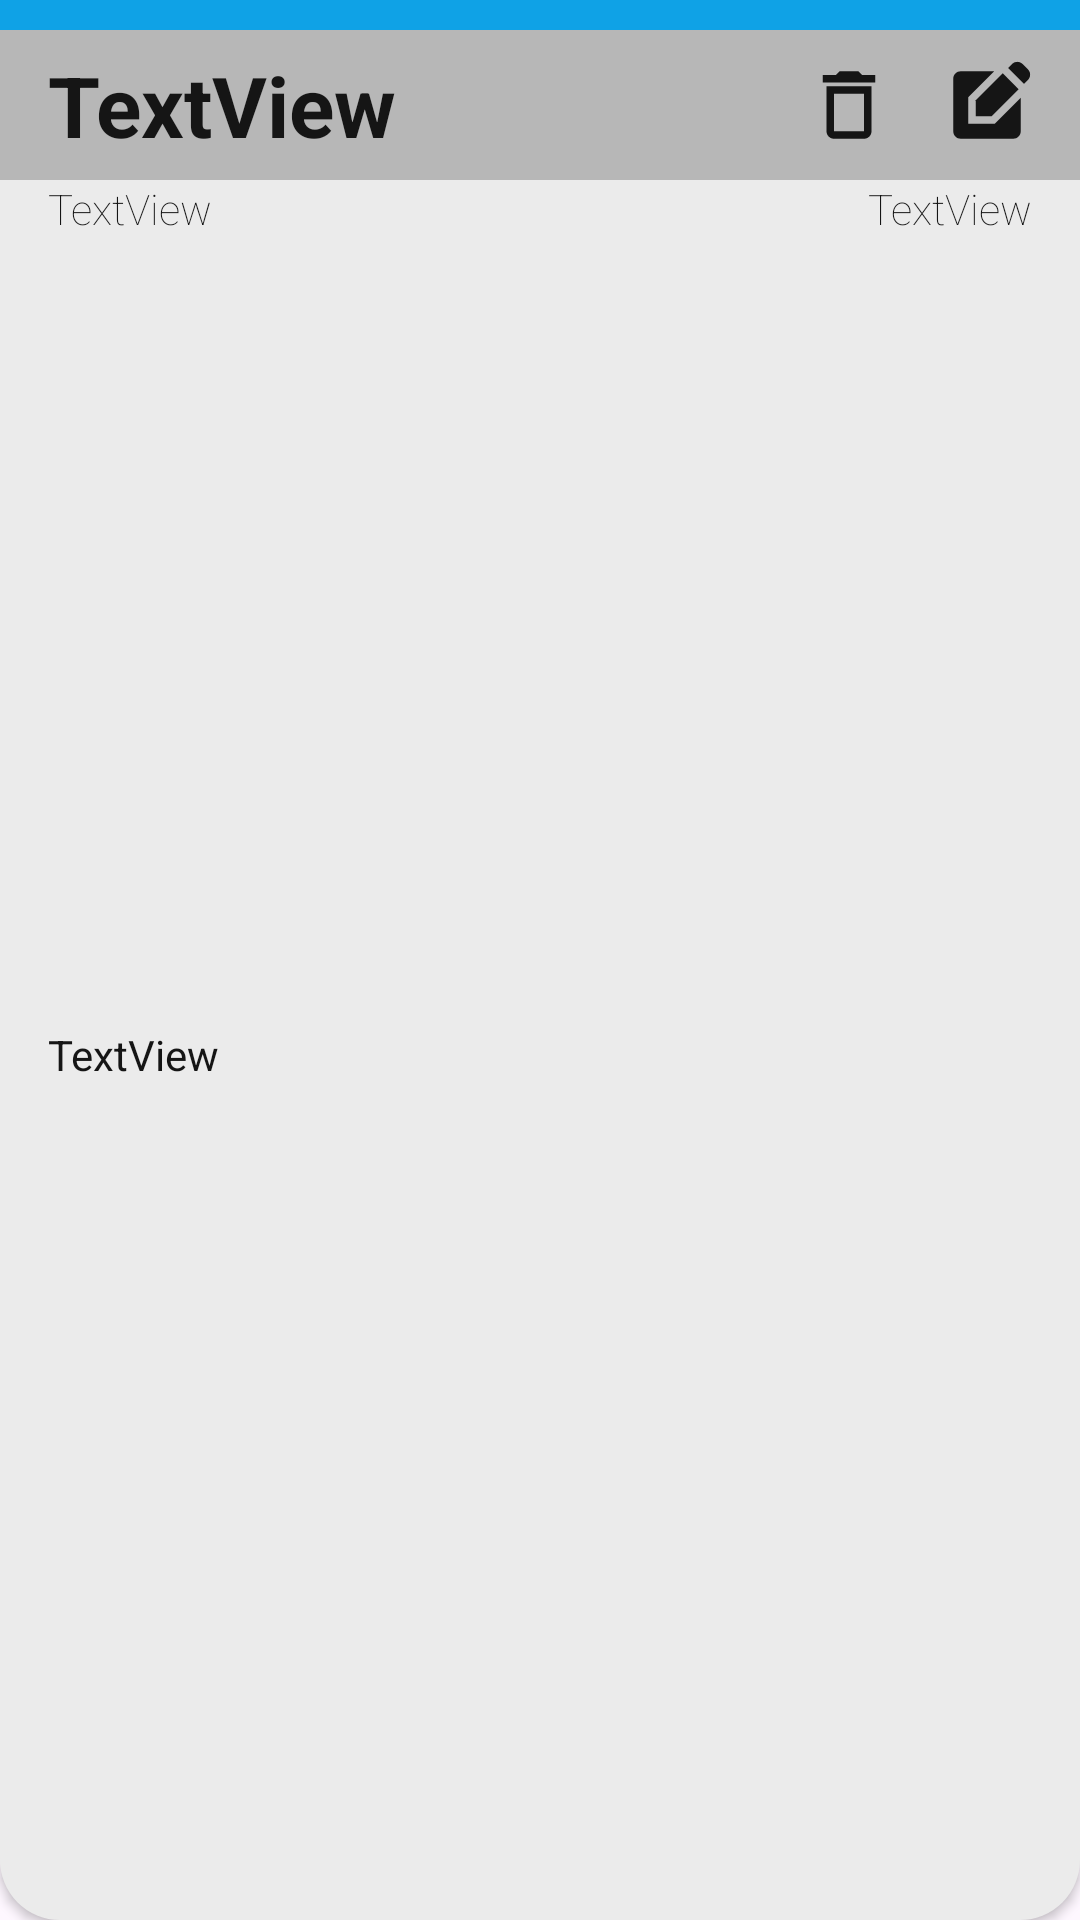

Icon bounding boxes for this 1080×1920 phone screenshot, format (x1, y1, x2, y2):
delete: (822, 71, 876, 139)
edit square: (953, 62, 1030, 139)
